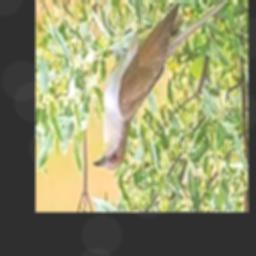Cuckoo: (91, 0, 243, 171)
